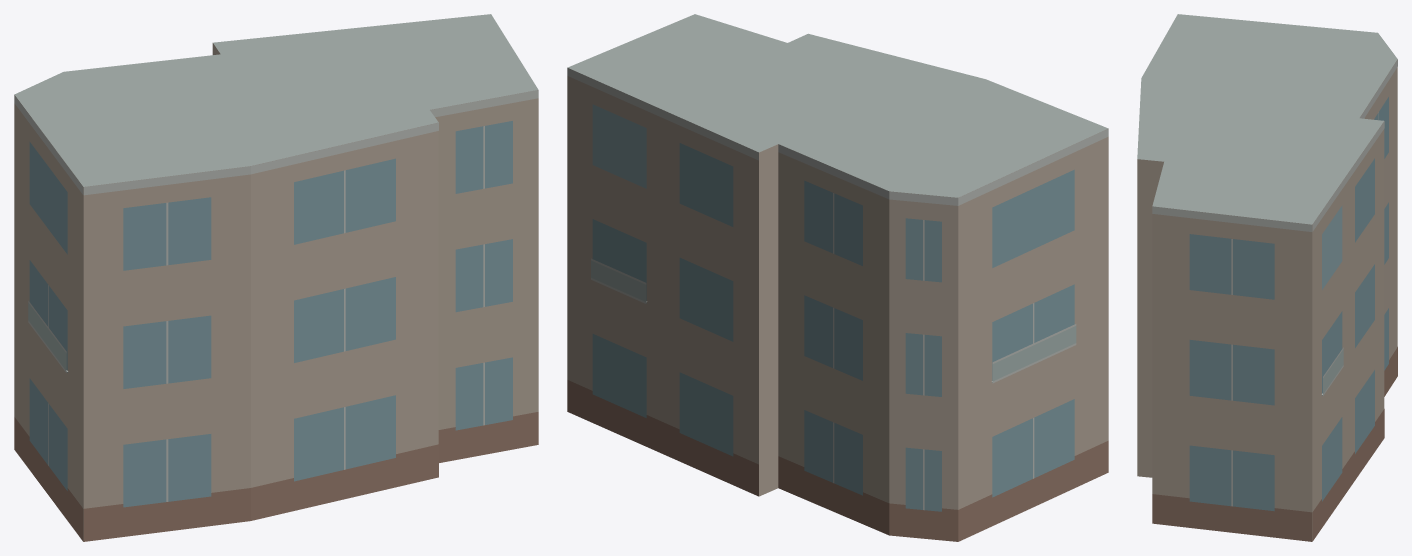
Rendered from survey-upis-32899764.glb.
3 renders of one model, left to right at view 1: azimuth 30°, elevation 25°; view 2: azimuth 150°, elevation 25°; view 3: azimuth 270°, elevation 25°, orthographic. The views are drawn at different scales.
Parts seen in each view (by area): view 1: survey-upis-32899764.tmp; view 2: survey-upis-32899764.tmp; view 3: survey-upis-32899764.tmp.
Boxes of the visible parts, <box> form: survey-upis-32899764.tmp: <box>14,14,538,541</box>; survey-upis-32899764.tmp: <box>567,14,1108,541</box>; survey-upis-32899764.tmp: <box>1137,14,1397,541</box>.
Size of the model in its own units: 14.68 by 10.3 by 7.68.
